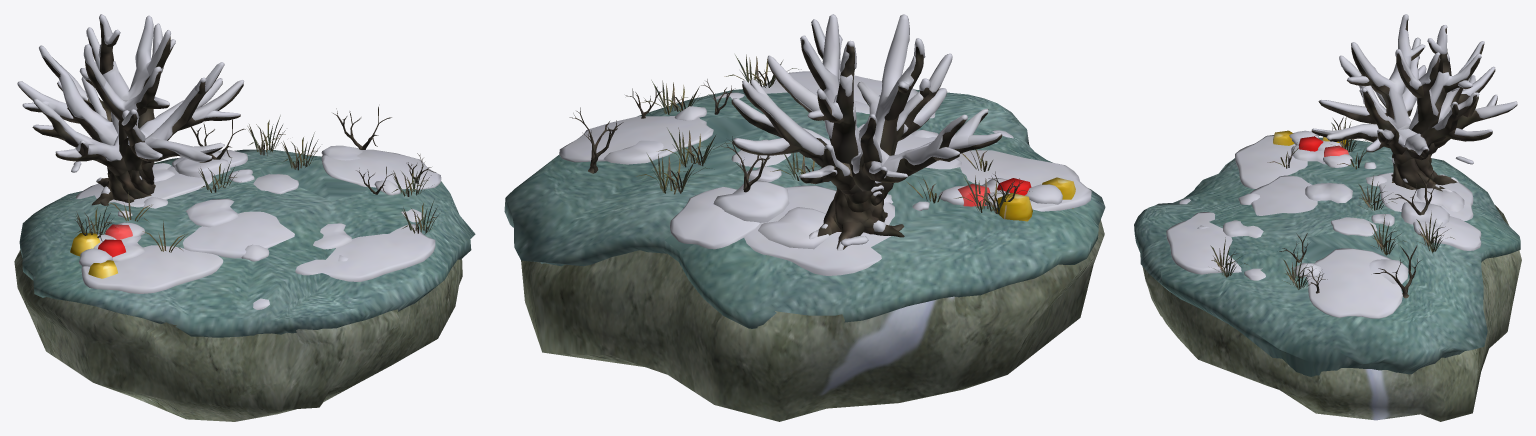
Rendered from Ilha de inverno.FBX.
3 views of the same model, side by side, from view 1: azimuth 30°, elevation 25°; view 2: azimuth 150°, elevation 25°; view 3: azimuth 270°, elevation 25° (orthographic). The views are drawn at different scales.
Parts seen in each view (by area): view 1: Stage_Neve; view 2: Stage_Neve; view 3: Stage_Neve.
Boxes of the visible parts, bbox=[...] form: Stage_Neve: bbox=[14, 14, 475, 421]; Stage_Neve: bbox=[504, 14, 1105, 421]; Stage_Neve: bbox=[1134, 14, 1521, 421].
Size of the model in its own units: 6.77 by 4.77 by 5.72.
